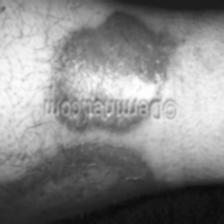Unclassified: (14, 16, 166, 91), (1, 141, 164, 192)
